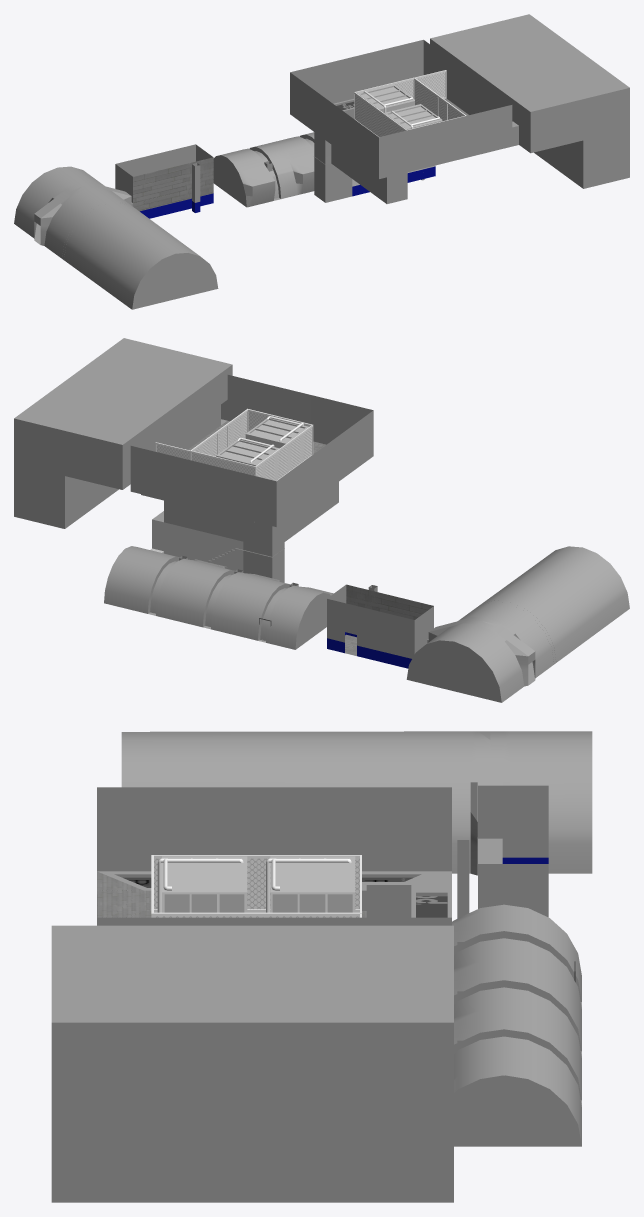
File: UndergroundLab.fbx
3 renders of one model, top to bottom at view 1: azimuth 30°, elevation 25°; view 2: azimuth 150°, elevation 25°; view 3: azimuth 270°, elevation 25°, orthographic. The views are drawn at different scales.
Parts seen in each view (by area): view 1: polySurface61, polySurface62, polySurface44, pCylinder29, polySurface43, pPlane4, pCube136 (×2), pCube147, Structural_Column4; view 2: polySurface61, polySurface62, polySurface44, pCylinder29, polySurface43, pPlane4, pCube136 (×2), pCube147; view 3: polySurface62, polySurface61, polySurface44, pCylinder29, pCube136 (×2), polySurface43, pPlane4, pCube147, Structural_Column4, pCylinder22.
Boxes of the visible parts, left/top/right/bottom form: polySurface61: left=290, top=39, right=518, bottom=203; polySurface62: left=430, top=14, right=629, bottom=188; polySurface44: left=14, top=166, right=218, bottom=309; pCylinder29: left=213, top=132, right=314, bottom=207; polySurface43: left=115, top=144, right=213, bottom=218; pPlane4: left=355, top=72, right=463, bottom=136; pCube136 (×2): left=357, top=84, right=442, bottom=129; pCube147: left=354, top=77, right=466, bottom=136; Structural_Column4: left=192, top=163, right=200, bottom=212; polySurface61: left=130, top=374, right=373, bottom=582; polySurface62: left=14, top=338, right=232, bottom=528; polySurface44: left=406, top=546, right=629, bottom=702; pCylinder29: left=104, top=546, right=333, bottom=649; polySurface43: left=327, top=584, right=433, bottom=668; pPlane4: left=156, top=411, right=311, bottom=480; pCube136 (×2): left=216, top=418, right=308, bottom=466; pCube147: left=190, top=408, right=313, bottom=481; polySurface62: left=51, top=925, right=453, bottom=1202; polySurface61: left=97, top=787, right=451, bottom=925; polySurface44: left=121, top=731, right=592, bottom=875; pCylinder29: left=452, top=904, right=581, bottom=1146; pCube136 (×2): left=162, top=856, right=355, bottom=912; polySurface43: left=478, top=785, right=548, bottom=917; pPlane4: left=154, top=858, right=359, bottom=917; pCube147: left=151, top=855, right=361, bottom=917; Structural_Column4: left=457, top=840, right=469, bottom=918; pCylinder22: left=157, top=858, right=243, bottom=912.
Size of the model in its own units: 6415 by 1518 by 3110.
